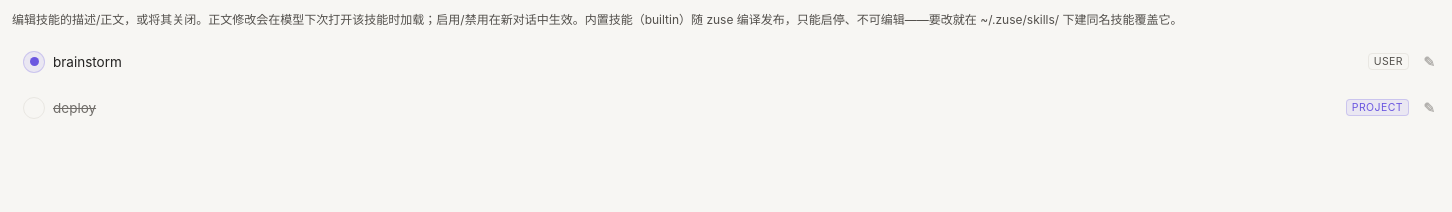
it: SkillsPanel › clicking the name expands to show description + body
Click the text "brainstorm" at (87, 62), box x1=53 y1=54 x2=122 y2=70
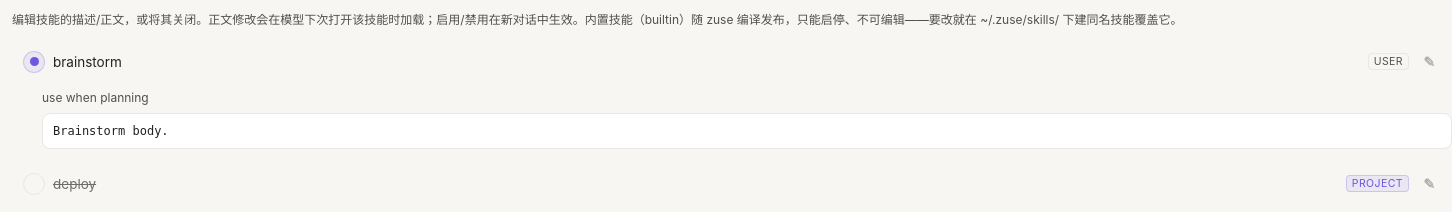
Result: the text "use when planning" is shown at x1=42 y1=90 x2=149 y2=105
Result: the text "Brainstorm body." is shown at x1=42 y1=113 x2=1451 y2=149
